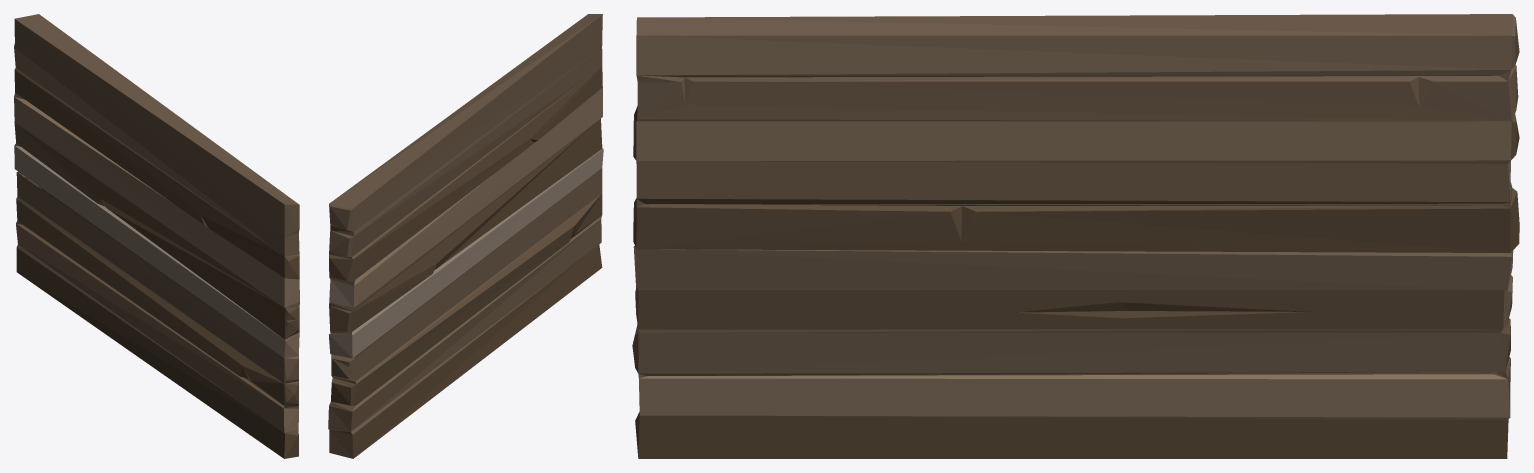
Rendered from EA03_Village_Hut_Wall_Front_01i.glb.
The picture shows the model from 3 angles, left to right: view 1: azimuth 30°, elevation 25°; view 2: azimuth 150°, elevation 25°; view 3: azimuth 270°, elevation 25°; orthographic projection. The views are drawn at different scales.
Visible parts, largest first — view 1: EA03_Village_Hut_Wall_Front_01i; view 2: EA03_Village_Hut_Wall_Front_01i; view 3: EA03_Village_Hut_Wall_Front_01i.
Boxes of the visible parts, x1,y1,x2,y2 form: EA03_Village_Hut_Wall_Front_01i: [14, 14, 299, 458]; EA03_Village_Hut_Wall_Front_01i: [328, 14, 603, 458]; EA03_Village_Hut_Wall_Front_01i: [632, 14, 1519, 458].
Size of the model in its own units: 0.3123 by 2.9 by 5.42.
1 material, 1 textured.
